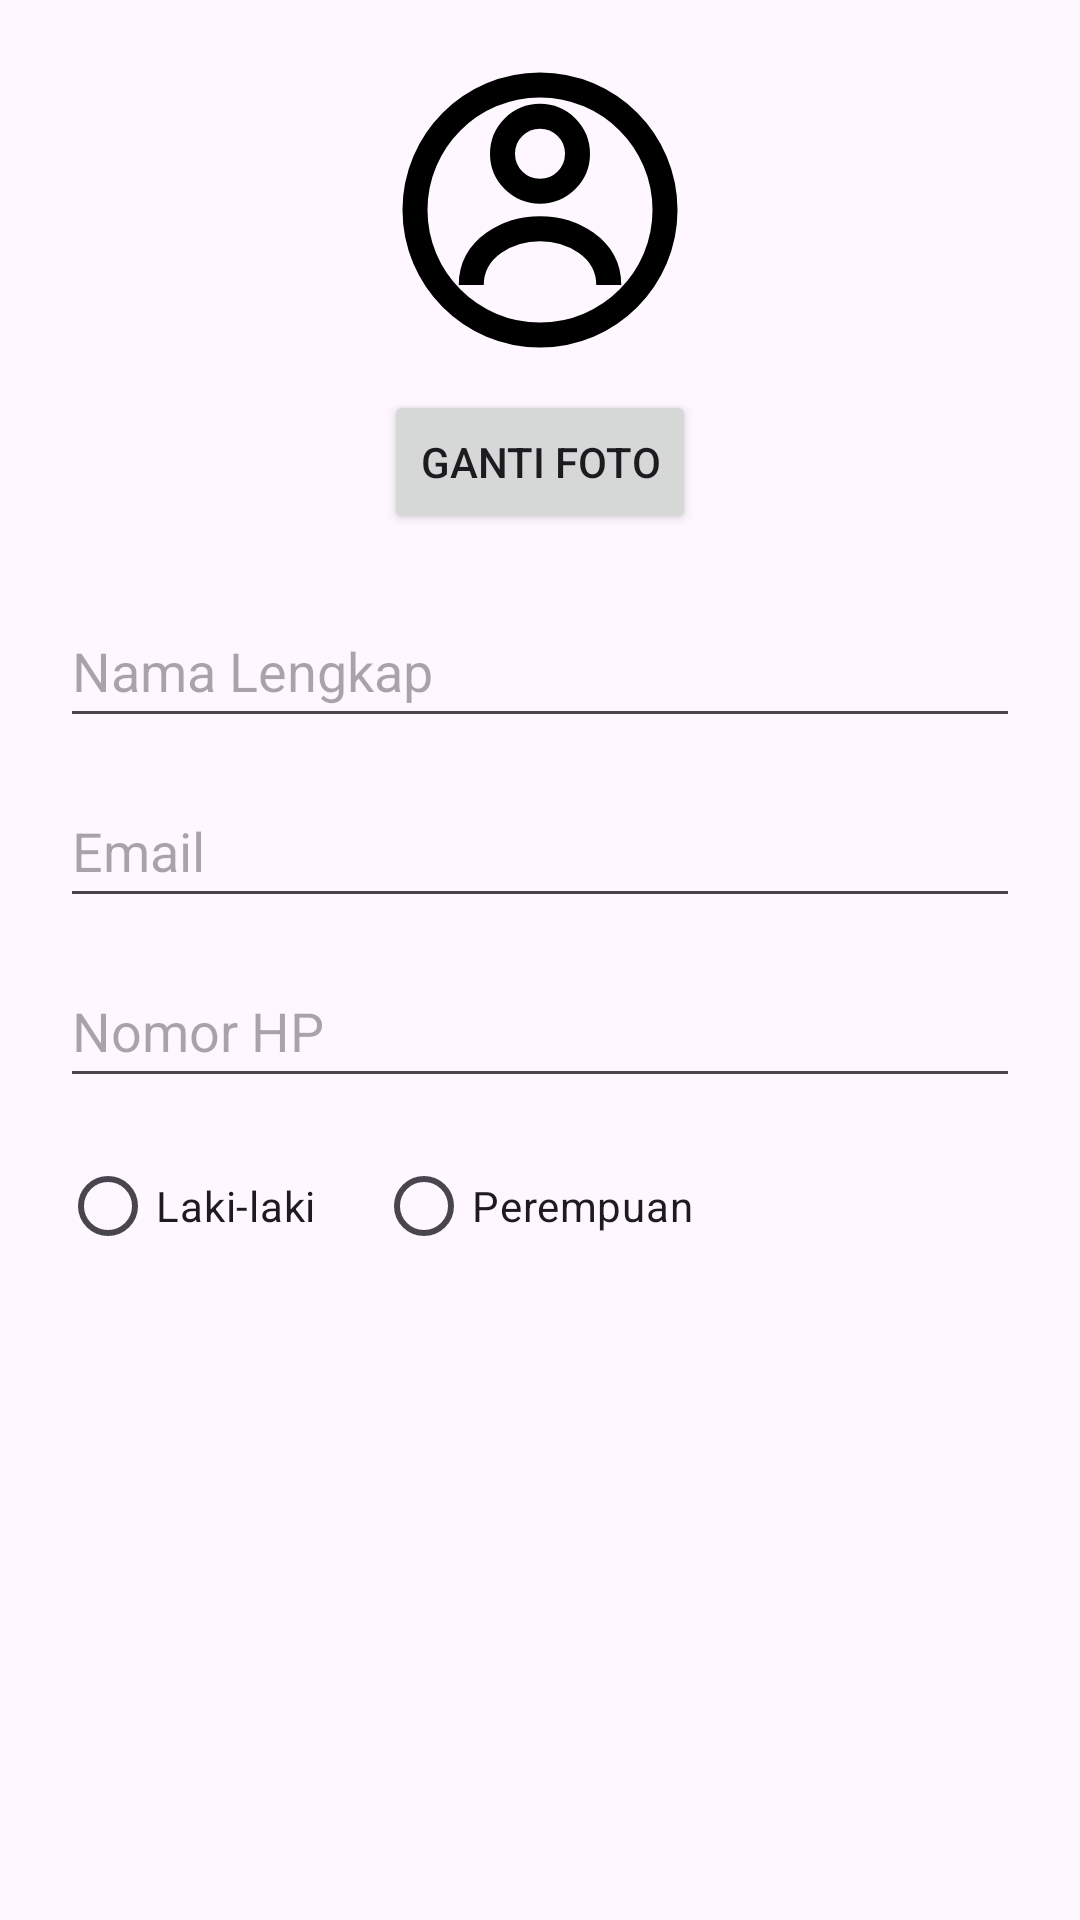

Icon click points for this 1080w x 1920h phone screenshot, format (x,y):
user: (540,210)
